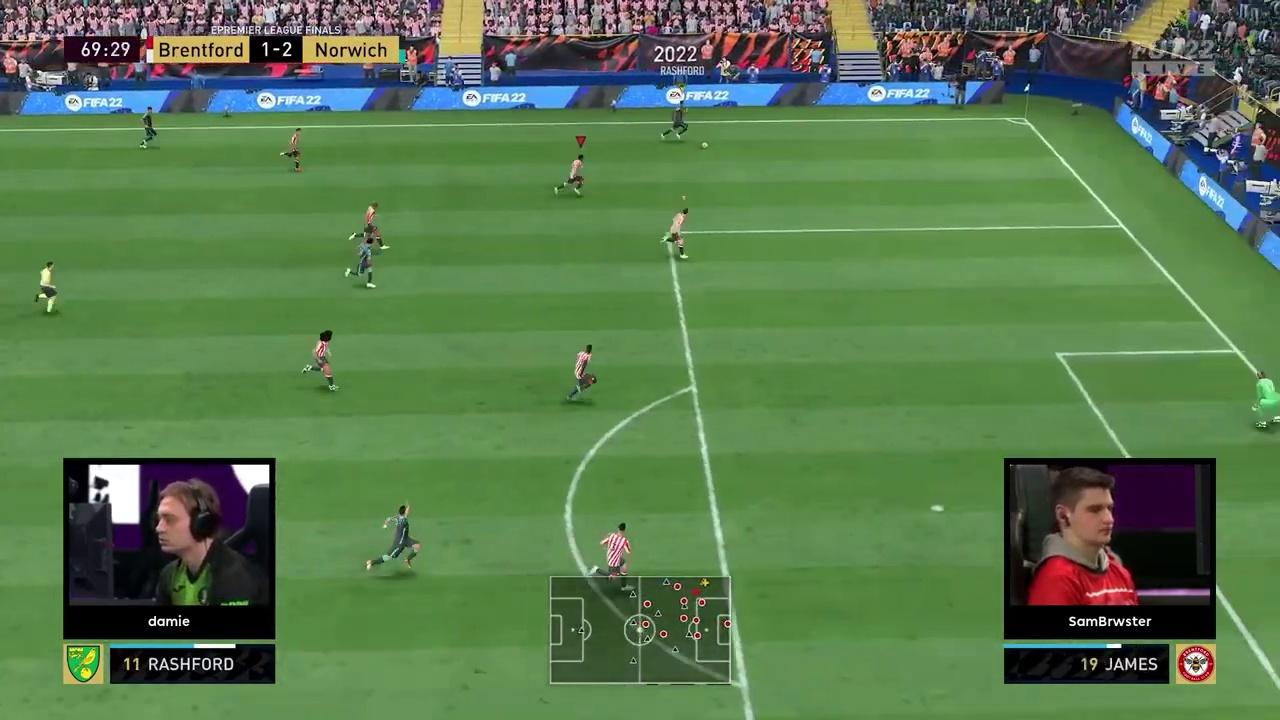scoreboard: (147, 33, 411, 64)
timestamp: (64, 36, 140, 63)
